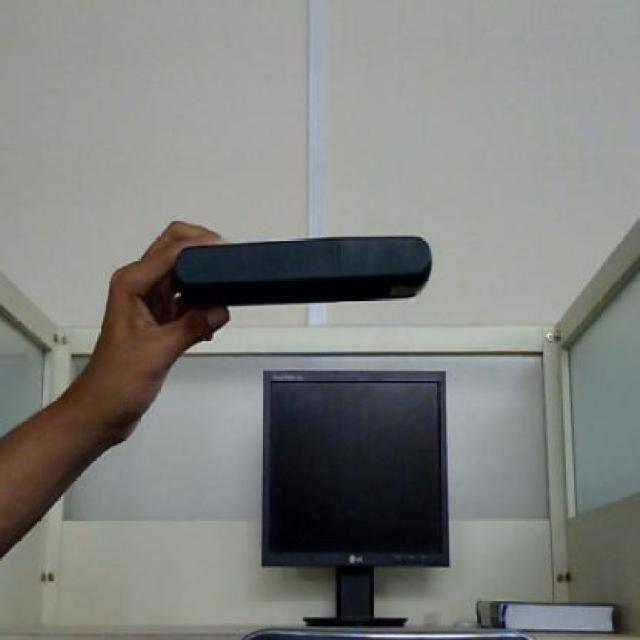Plastic: (174, 234, 434, 313)
